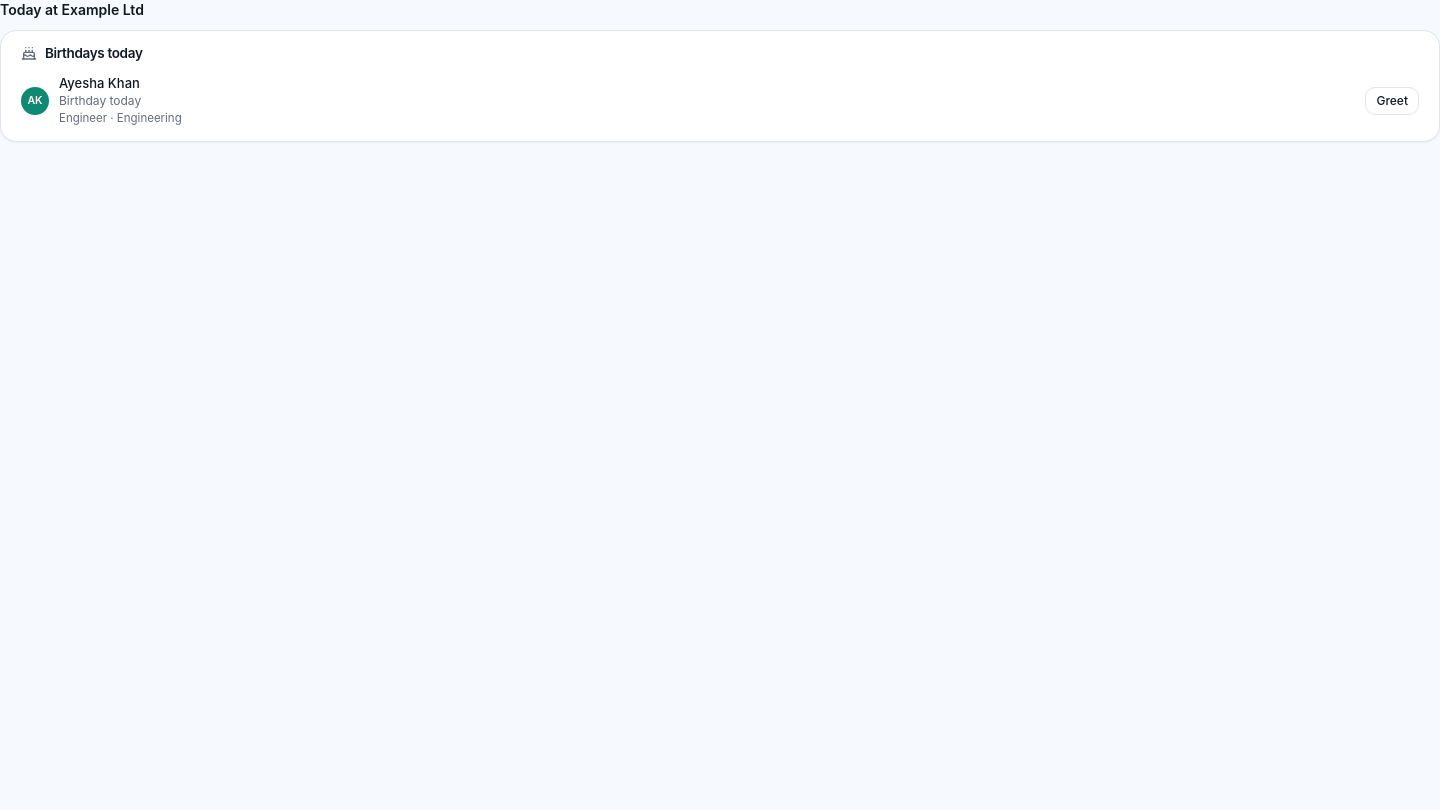
Test: the greeting dialog › opens on a sendable greeting rather than an empty box
What coordinates should you click on to do the following:
click the button "Greet"
I would click on:
 (1392, 101)
Its box is [1365, 87, 1419, 115].
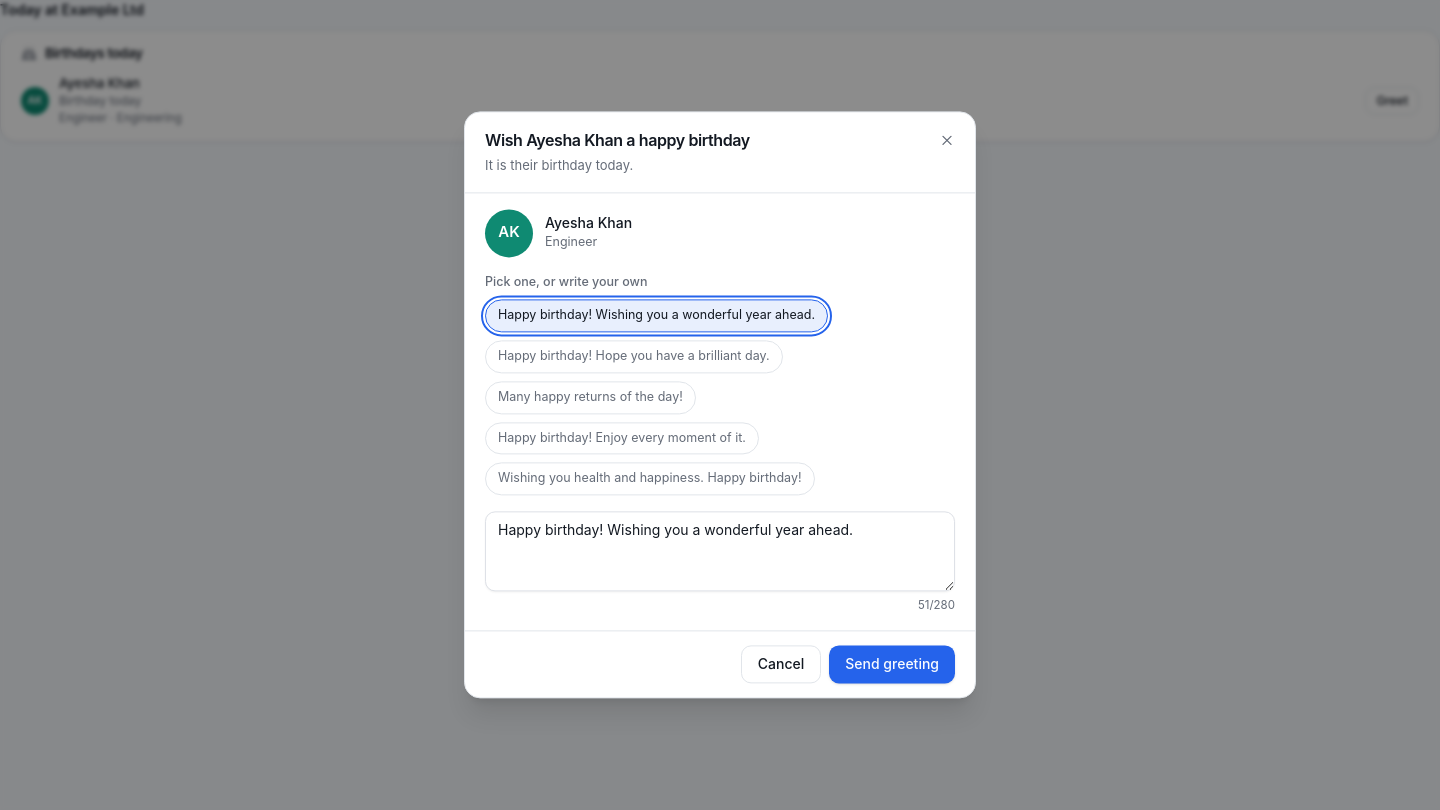
Expected: the text box named "Your greeting" holds "Happy birthday! Wishing you a wonderful year ahead.", [485, 511, 955, 591]
